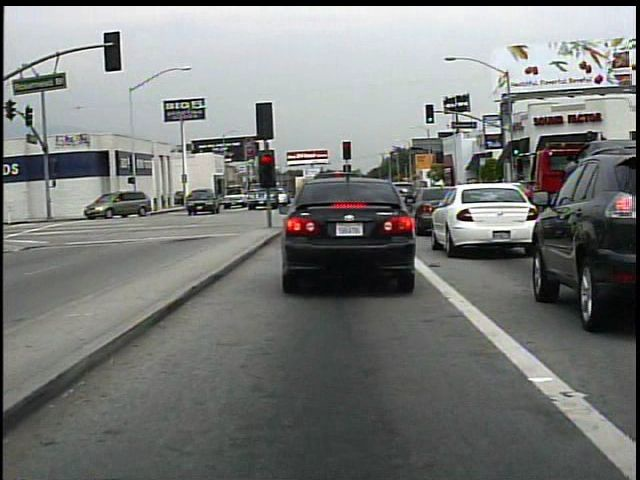person: (197, 183, 218, 209)
